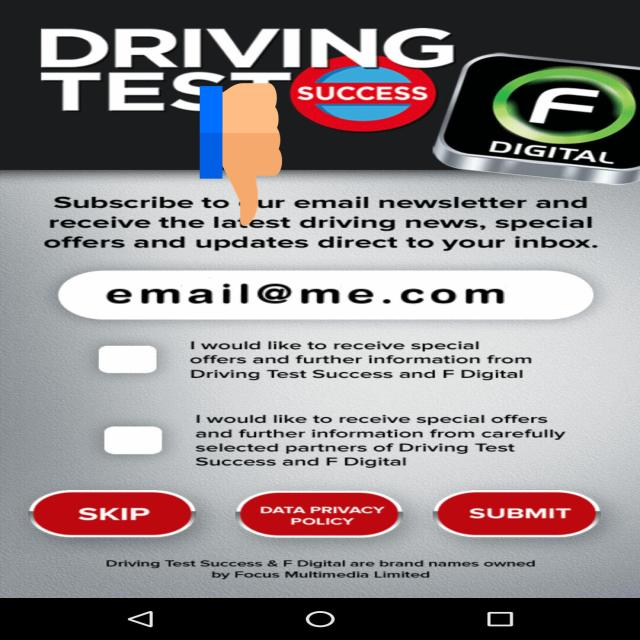obstruction: (200, 80, 282, 229)
